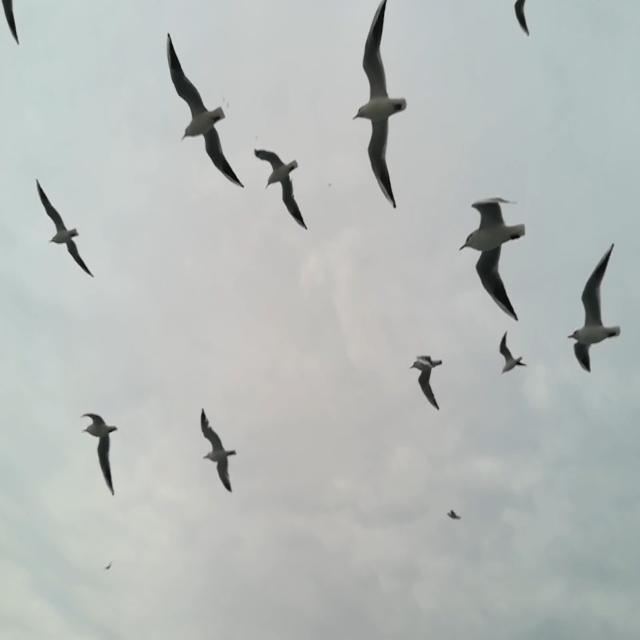bird: (159, 24, 245, 197), (355, 0, 404, 215), (455, 194, 530, 326), (567, 239, 625, 374), (35, 176, 96, 286), (250, 138, 312, 237), (192, 401, 236, 504), (82, 409, 121, 505), (409, 348, 448, 415), (495, 332, 530, 376), (443, 500, 465, 525)
